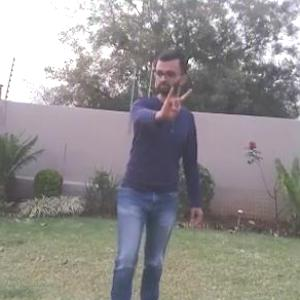takeoff-hand: (157, 78, 198, 124)
